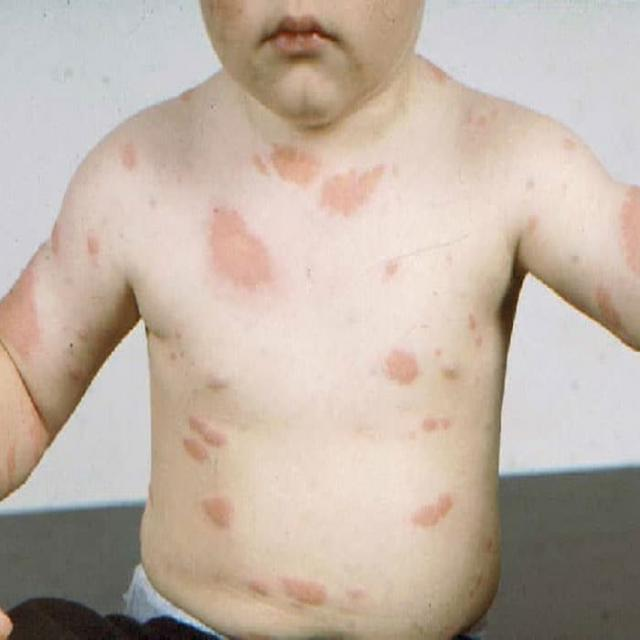hives: (183, 143, 492, 620), (0, 102, 170, 506), (459, 97, 640, 355)
